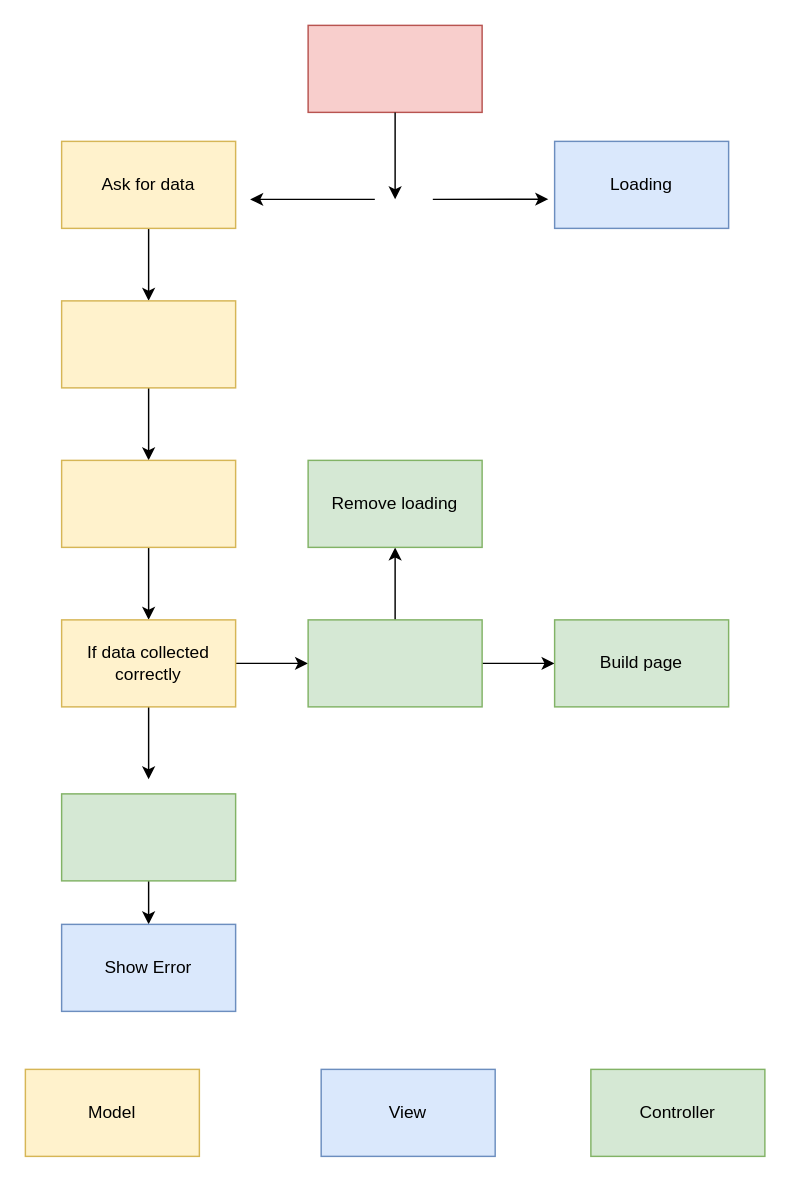
Some shapes in this 790 by 1182 pixel diagram are drawn without their labels. The shapes that lost their labels are listed below. From the top down, each one's box as (x1, y1, x2, y2) in pixels, then its label:
(307, 24, 482, 112): ENTRYPOINT
(60, 299, 236, 388): Ask for products
(60, 459, 236, 547): Ask for quantity
(307, 618, 482, 707): Generate pice
(60, 792, 236, 881): If data failed to load
